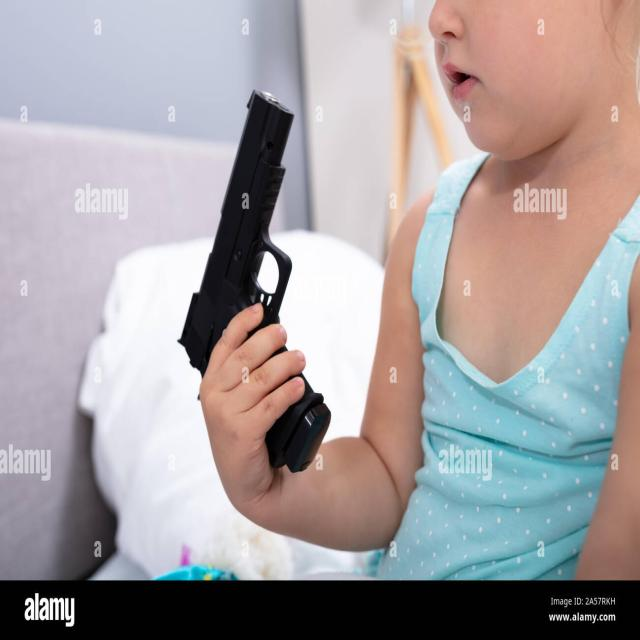HandGun: (179, 92, 329, 473)
